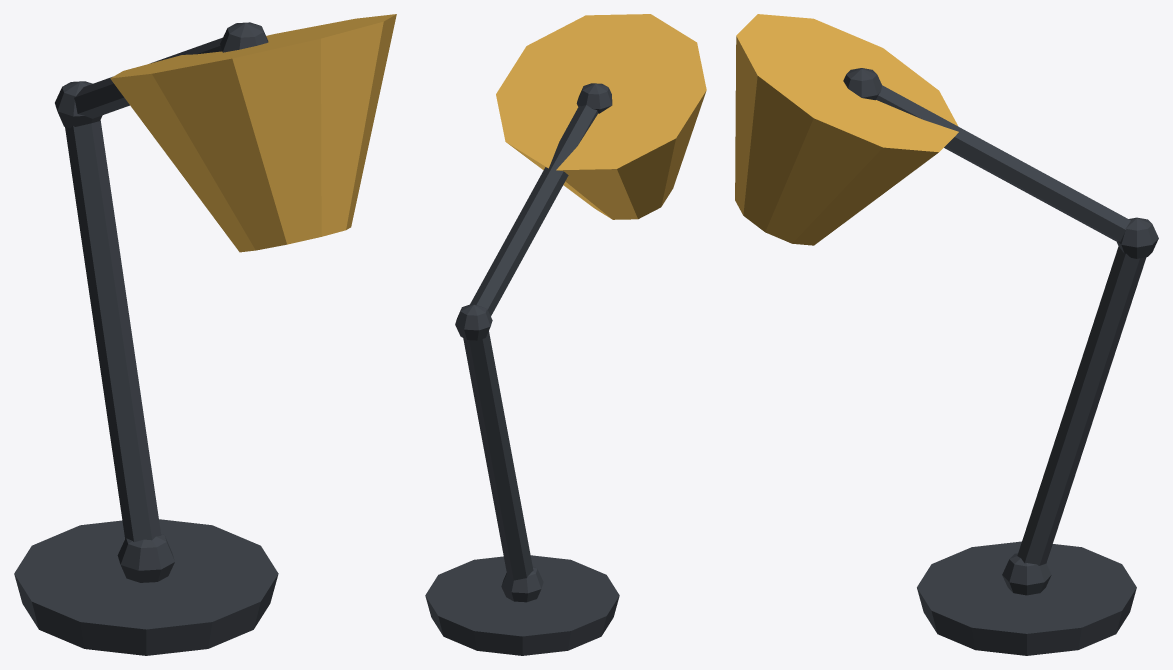
Rendered from desk_lamp.glb.
3 renders of one model, left to right at view 1: azimuth 30°, elevation 25°; view 2: azimuth 150°, elevation 25°; view 3: azimuth 270°, elevation 25°, orthographic. The views are drawn at different scales.
Parts seen in each view (by area): view 1: LampBody; view 2: LampBody; view 3: LampBody.
Part boxes in pixels (x1,y1,x2,y2): LampBody: (14,14,396,655); LampBody: (425,14,706,655); LampBody: (735,14,1158,655).
Size of the model in its own units: 0.1712 by 0.4624 by 0.3081.
